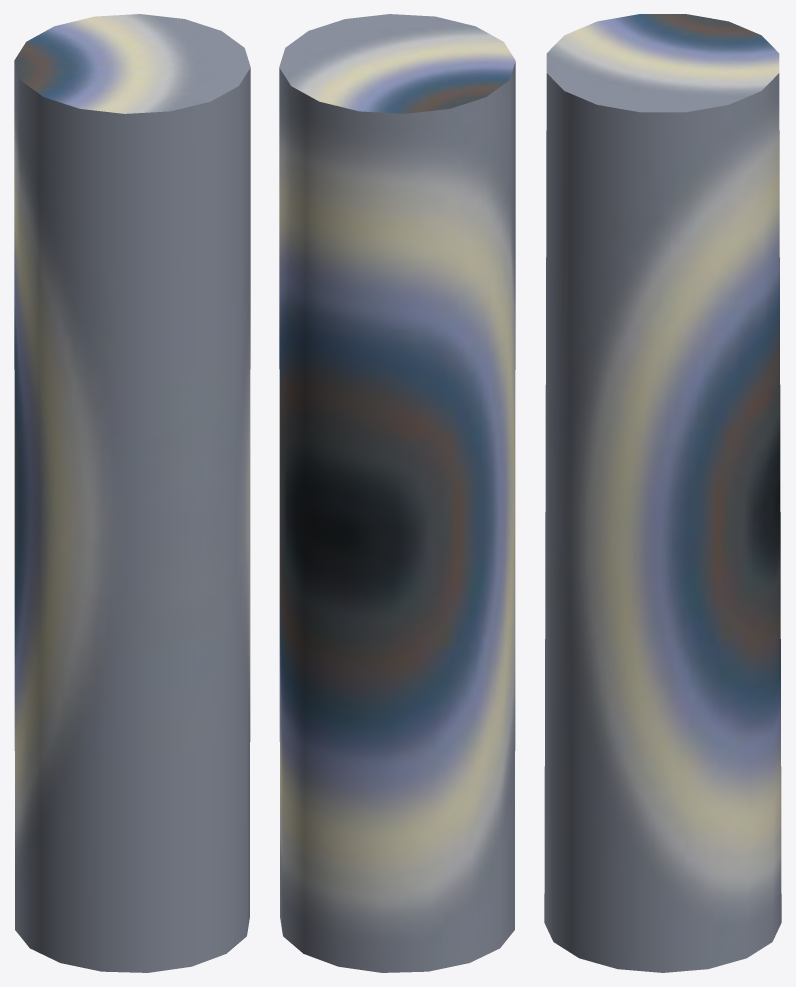
File: peg.obj
3 renders of one model, left to right at view 1: azimuth 30°, elevation 25°; view 2: azimuth 150°, elevation 25°; view 3: azimuth 270°, elevation 25°, orthographic.
Visible parts, largest first — view 1: cylinder1_mtrl/chrome; view 2: cylinder1_mtrl/chrome; view 3: cylinder1_mtrl/chrome.
Boxes of the visible parts, x1=… form: cylinder1_mtrl/chrome: x1=14, y1=14, x2=250, y2=972; cylinder1_mtrl/chrome: x1=279, y1=14, x2=515, y2=972; cylinder1_mtrl/chrome: x1=544, y1=14, x2=781, y2=972.
Size of the model in its own units: 8 by 32 by 8.
